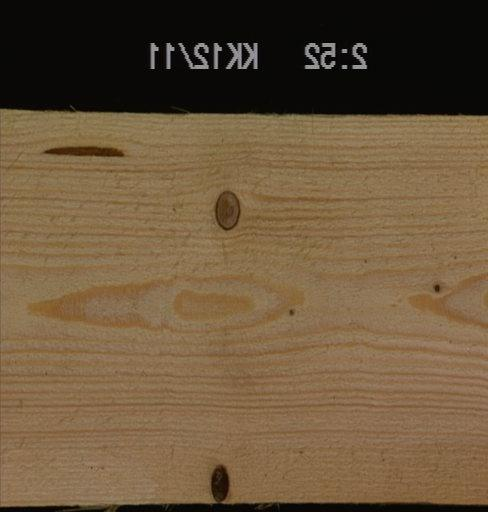dry_knot: (213, 187, 242, 230)
small_knot: (280, 301, 301, 323), (429, 278, 443, 298)
